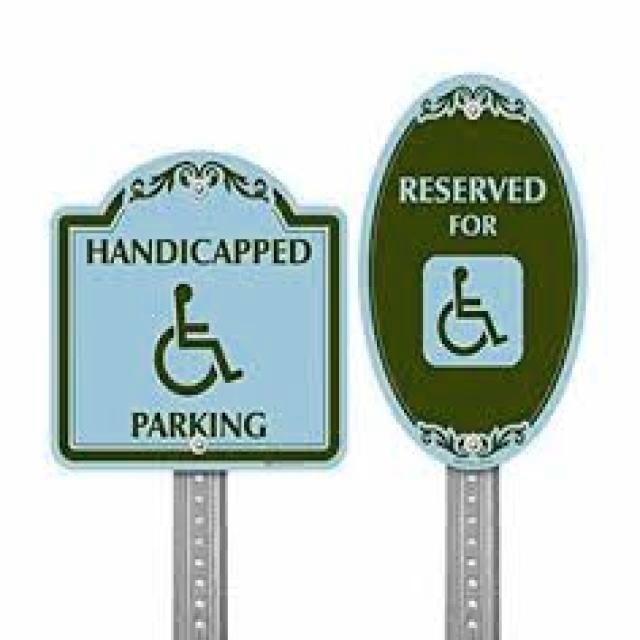ISA: (149, 281, 248, 398), (428, 262, 518, 364)
